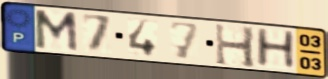4: (127, 18, 161, 58)
7: (79, 12, 114, 55), (168, 20, 202, 62)
H: (213, 21, 258, 70), (253, 27, 298, 69)
M: (33, 9, 81, 55)
